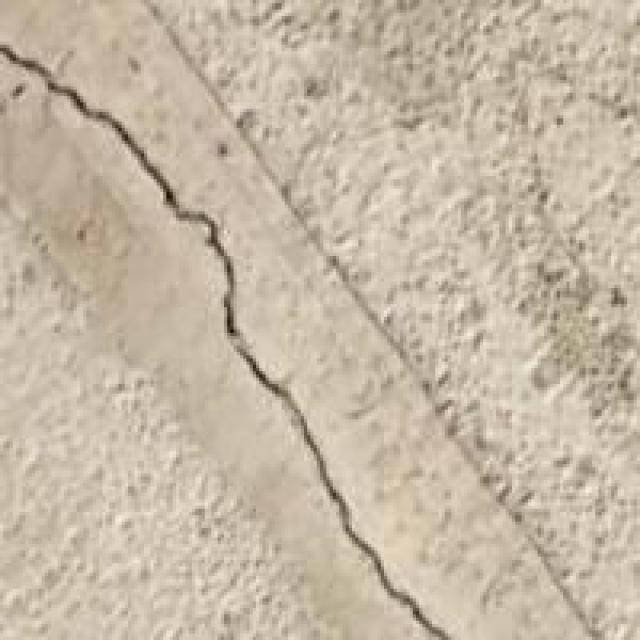Crack: (6, 6, 468, 637)
